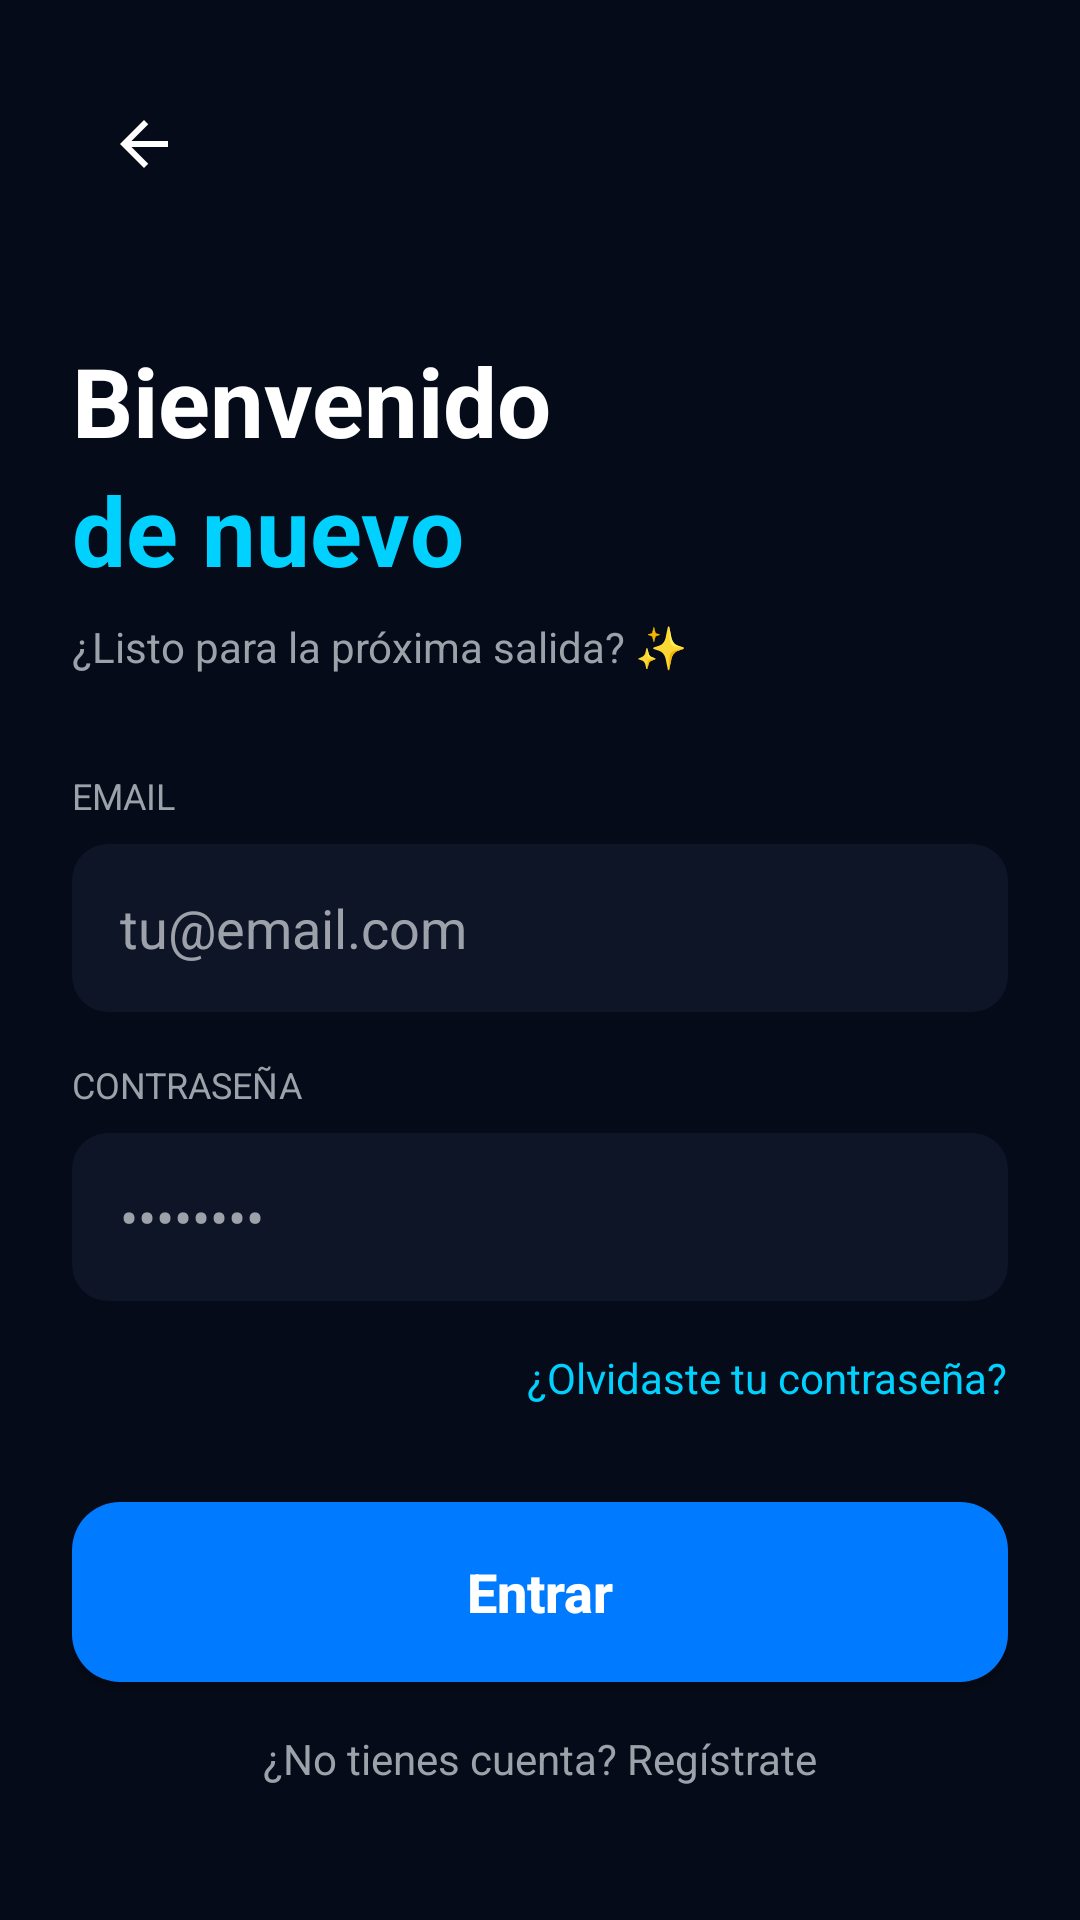

Named icons in this screenshot (1080*1920) and their bounding boxes, [x1=x1, y1=y1, x2=x2, y2=y2]:
Atrás: [x1=120, y1=120, x2=168, y2=168]
